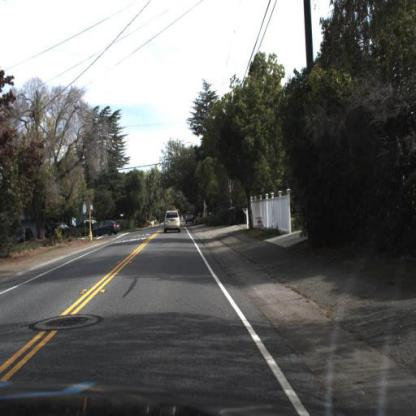car: (160, 206, 184, 235), (92, 219, 121, 238), (185, 210, 194, 225)
